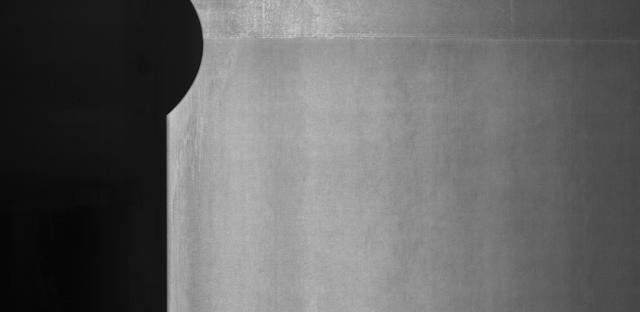crescent_gap: (155, 0, 220, 124)
